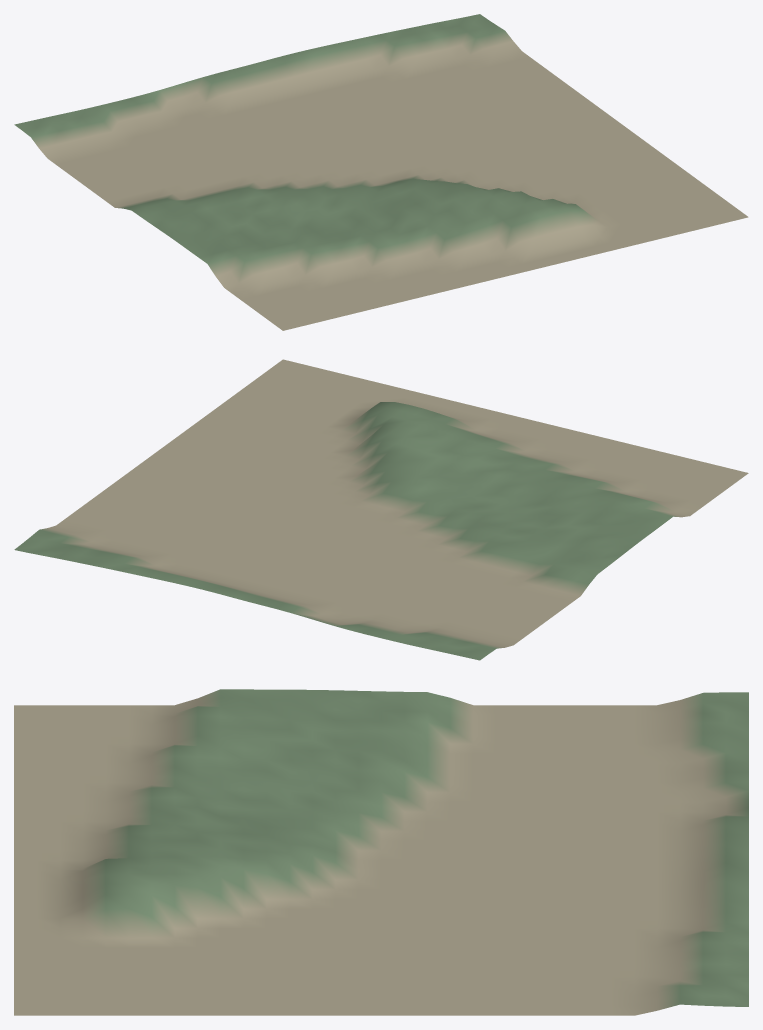
The picture shows the model from 3 angles, top to bottom: view 1: azimuth 30°, elevation 25°; view 2: azimuth 150°, elevation 25°; view 3: azimuth 270°, elevation 25°; orthographic projection. The views are drawn at different scales.
Visible parts, largest first — view 1: Terrain-col; view 2: Terrain-col; view 3: Terrain-col.
Boxes of the visible parts, <box> form: Terrain-col: <box>14,14,748,330</box>; Terrain-col: <box>14,359,748,660</box>; Terrain-col: <box>14,689,748,1015</box>.
Size of the model in its own units: 256 by 9.75 by 256.
